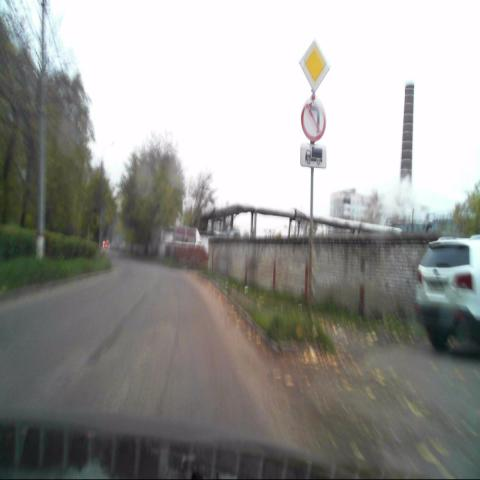3_18_2: (301, 99, 326, 141)
8_4_1: (300, 144, 326, 167)
